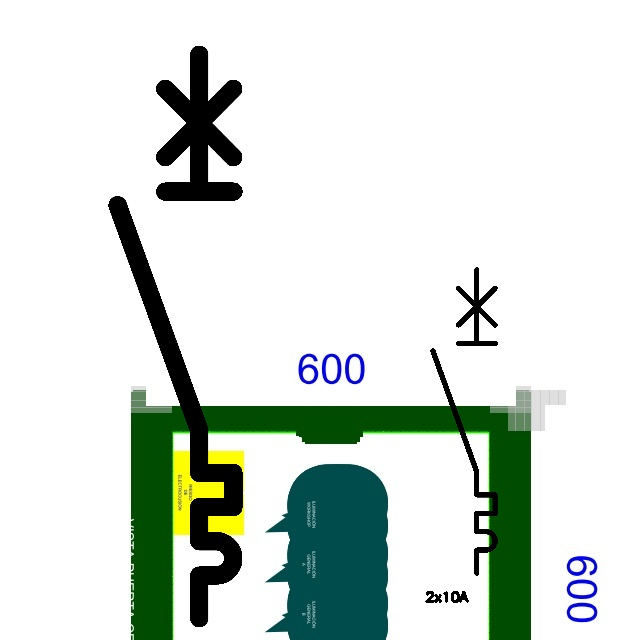interruptor_termomagnetico: (103, 40, 248, 633), (425, 262, 503, 581)
